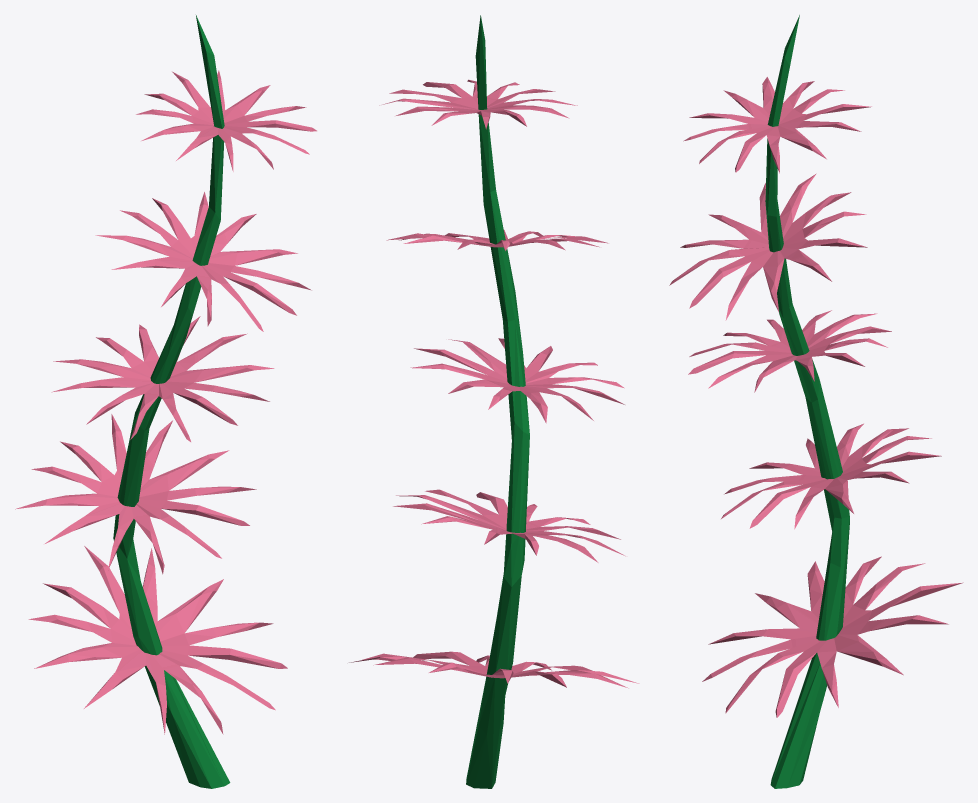
File: Seaweed_03.fbx
The picture shows the model from 3 angles, left to right: view 1: azimuth 30°, elevation 25°; view 2: azimuth 150°, elevation 25°; view 3: azimuth 270°, elevation 25°; orthographic projection.
Visible parts, largest first — view 1: Seaweed_03; view 2: Seaweed_03; view 3: Seaweed_03.
Boxes of the visible parts, x1=… form: Seaweed_03: x1=15, y1=15, x2=316, y2=788; Seaweed_03: x1=349, y1=15, x2=639, y2=788; Seaweed_03: x1=669, y1=15, x2=963, y2=788.
Size of the model in its own units: 173 by 494 by 173.
